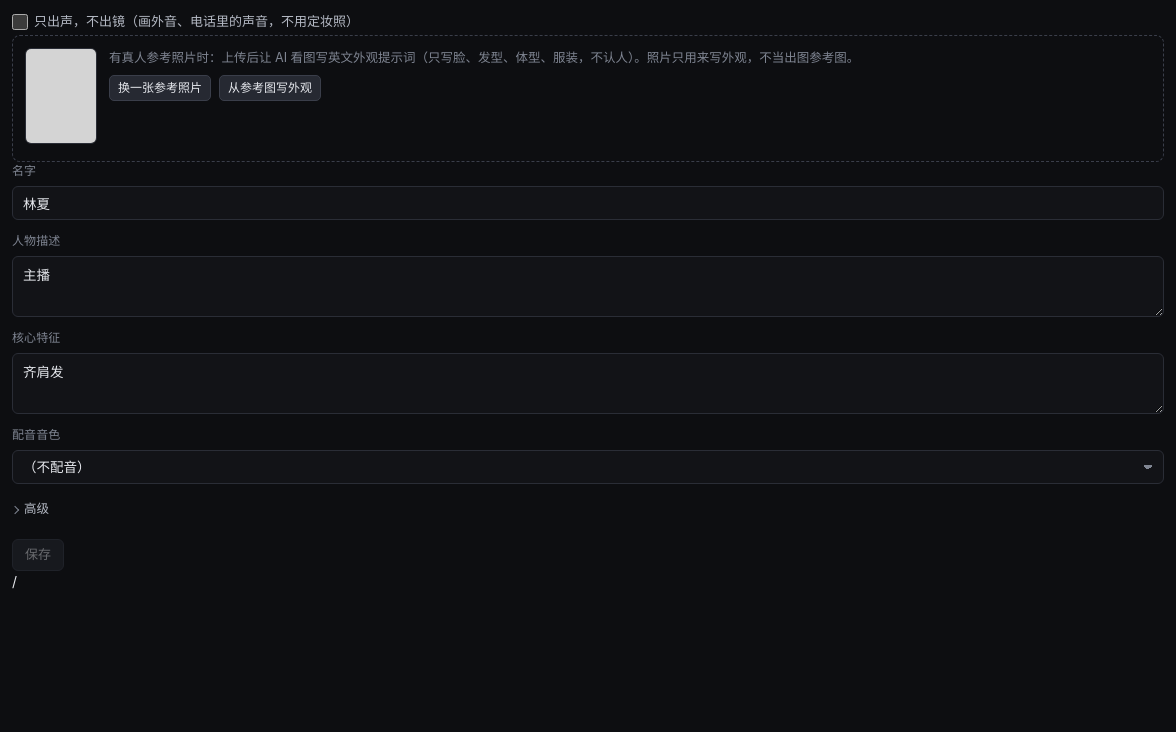
Test: 从参考图写外观 › 文本模型看不了图片：一键改用手动粘贴，并能去设置页这一步
Click the button "从参考图写外观".
click(270, 88)  # box top-left (219, 75), bottom-right (321, 101)
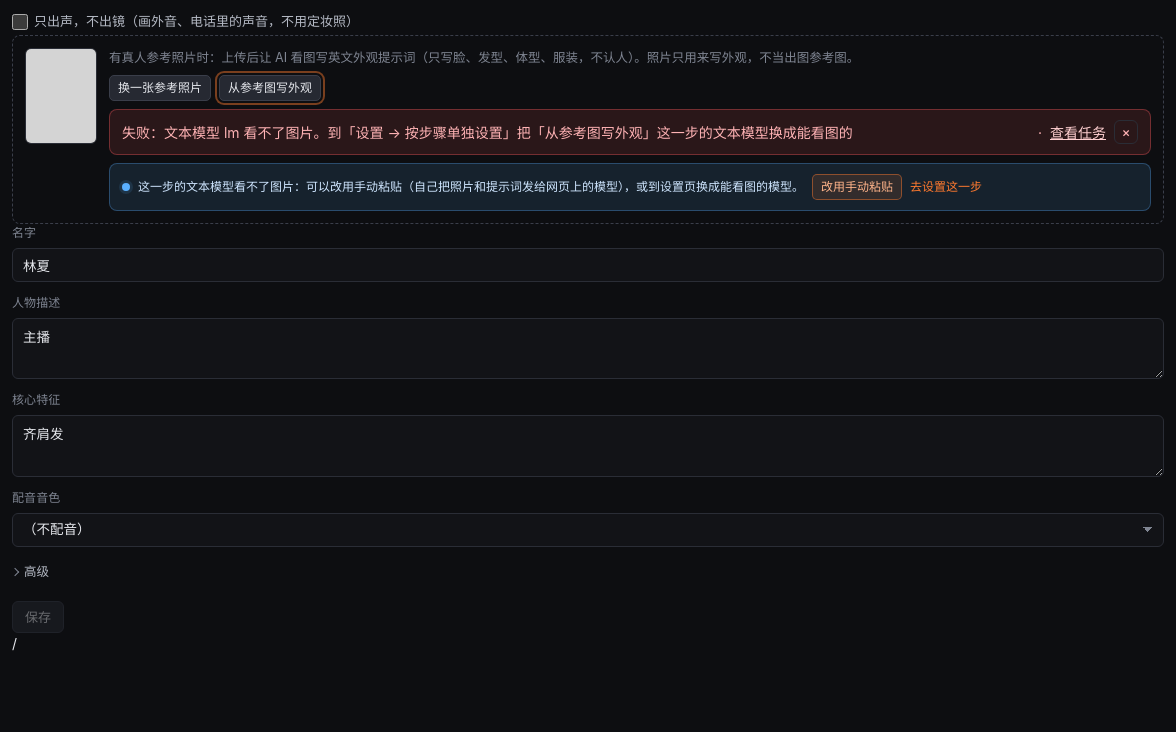
Click the button "改用手动粘贴".
click(857, 187)  # box top-left (812, 174), bottom-right (902, 200)
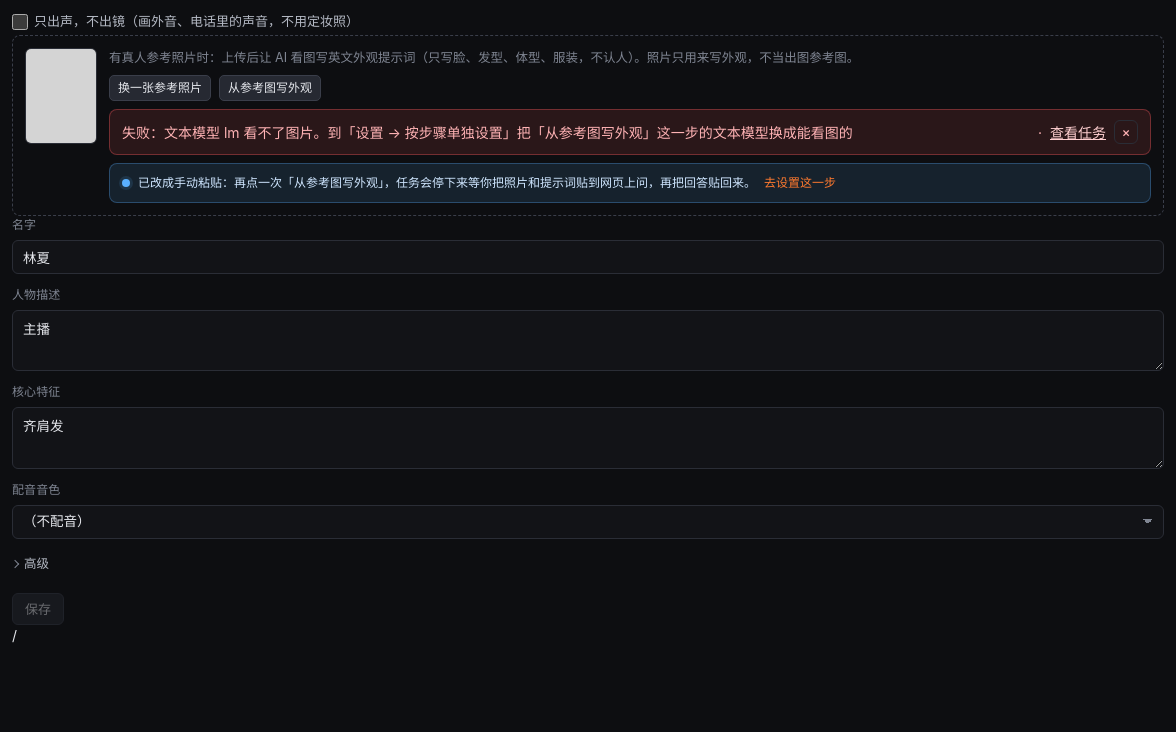
Result: the text "已改成手动粘贴：再点一次「从参考图写外观」，任务会停下来等你把照片和提示词贴到网页上问，再把回答贴回来。" is shown at top-left (138, 174), bottom-right (756, 192)
